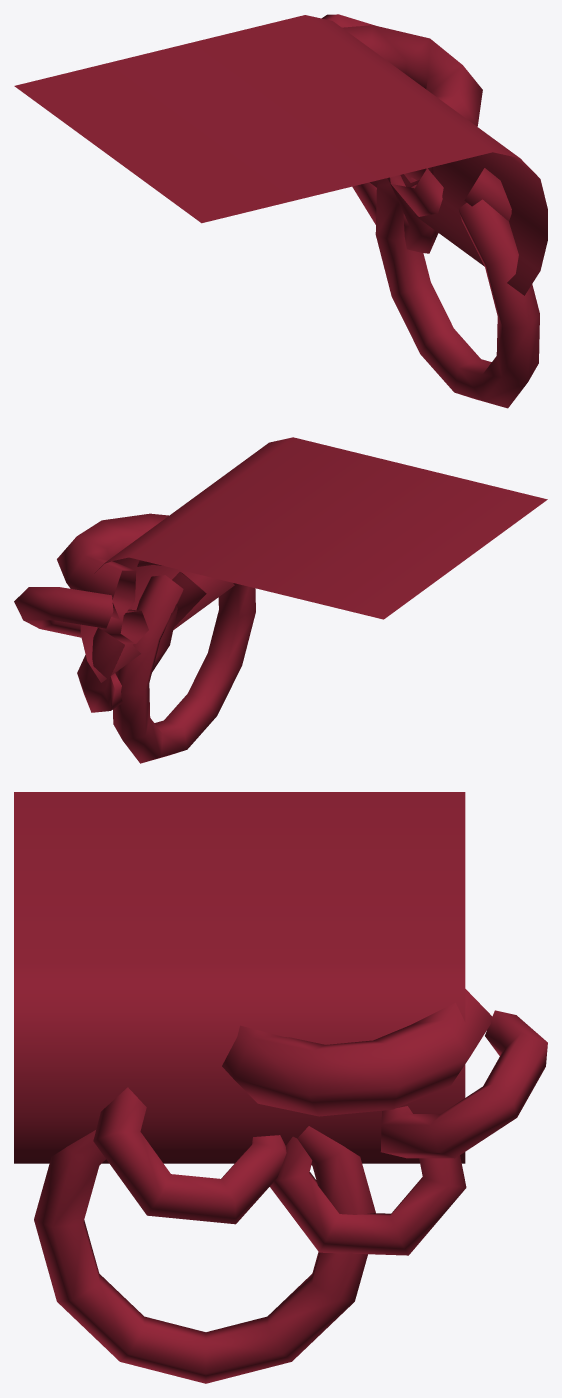
The model's file is Surface_SideUp02.fbx.
3 renders of one model, top to bottom at view 1: azimuth 30°, elevation 25°; view 2: azimuth 150°, elevation 25°; view 3: azimuth 270°, elevation 25°, orthographic. The views are drawn at different scales.
Parts seen in each view (by area): view 1: Surface_SideUp02; view 2: Surface_SideUp02; view 3: Surface_SideUp02.
Part boxes in pixels (x1,y1,x2,y2): Surface_SideUp02: [14, 14, 547, 408]; Surface_SideUp02: [14, 437, 547, 763]; Surface_SideUp02: [14, 792, 547, 1383].
Size of the model in its own units: 2528 by 1882 by 2367.
